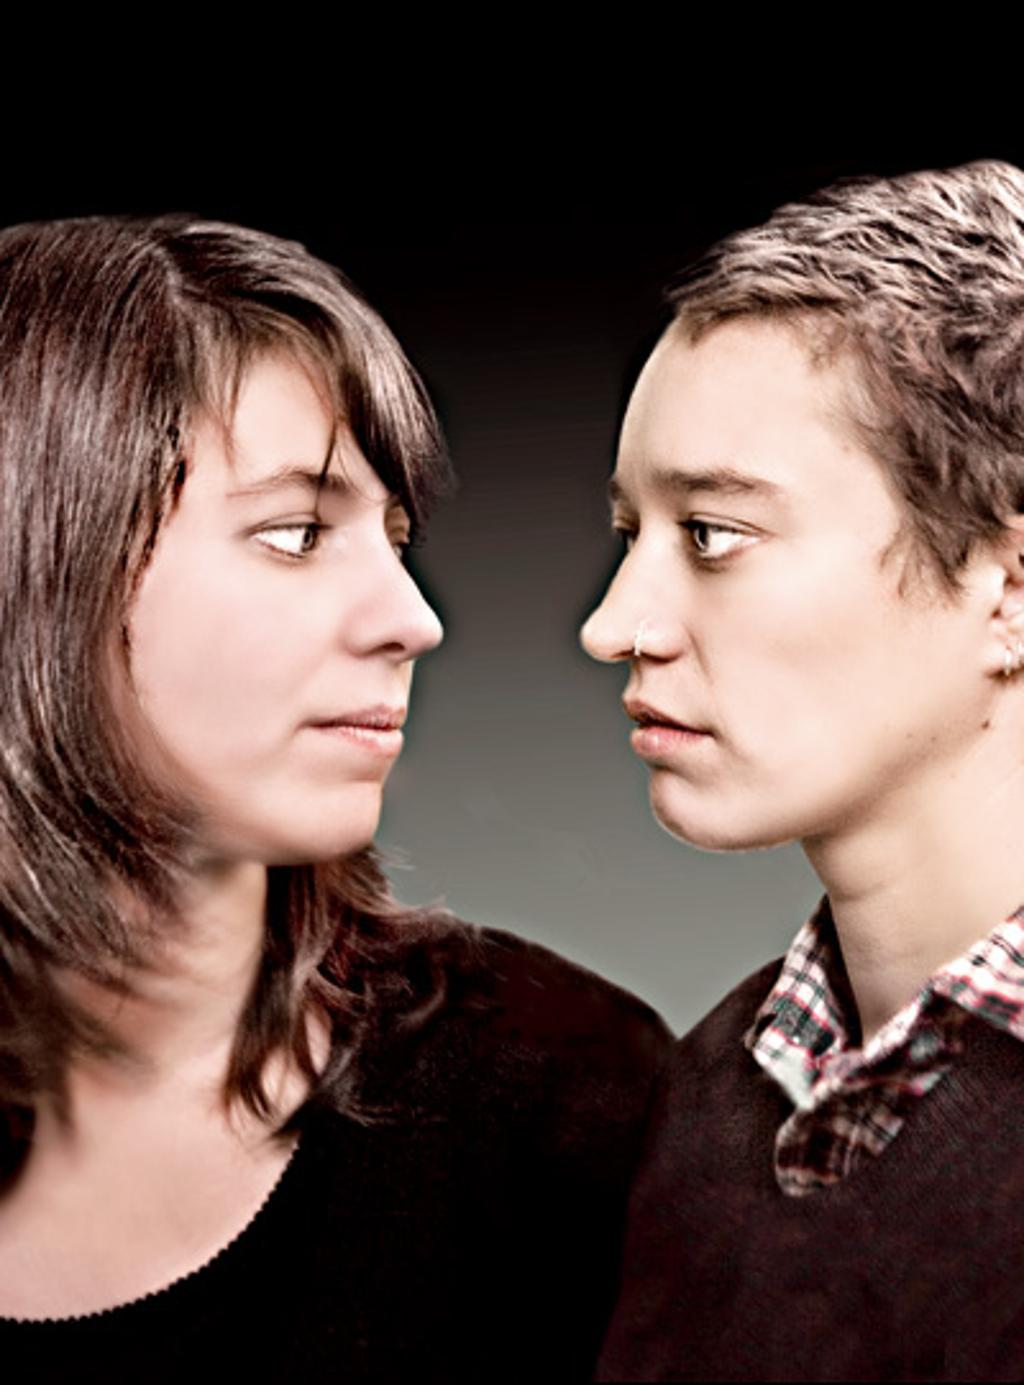face: (581, 316, 989, 840), (68, 340, 441, 859)
